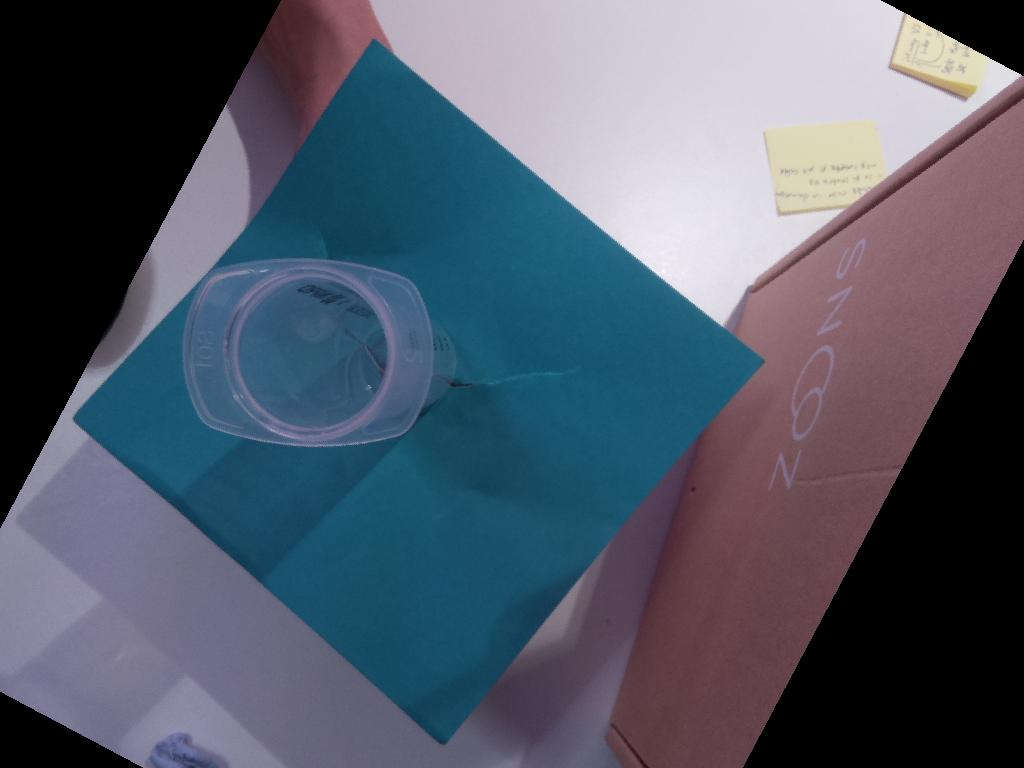clean: (180, 257, 438, 447)
